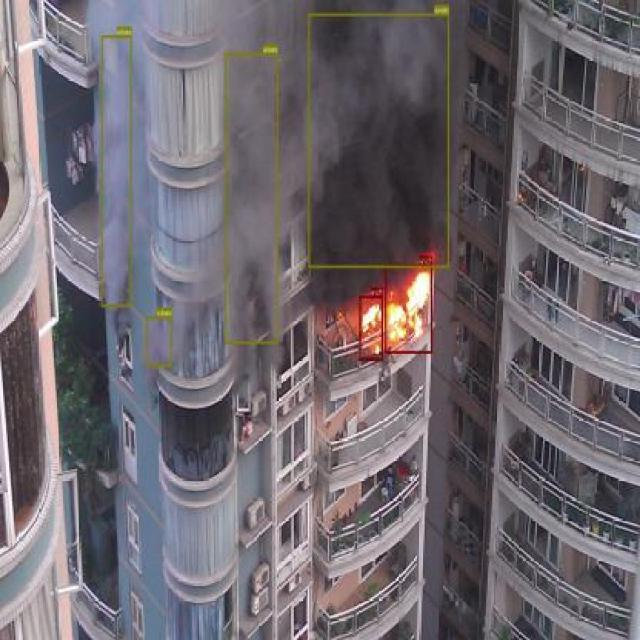Fire: (385, 264, 433, 353), (360, 296, 383, 359)
Smoke: (309, 12, 449, 268), (226, 52, 280, 343), (101, 36, 132, 306), (147, 316, 173, 366)
